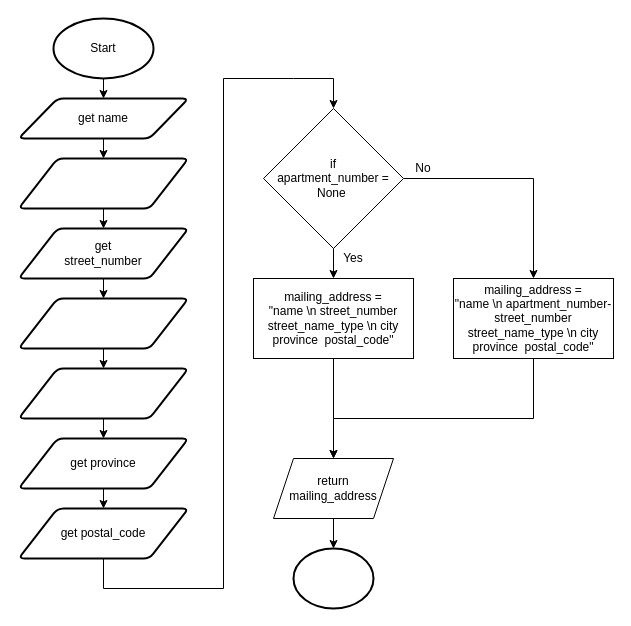
Some shapes in this 631 by 626 pixel diagram are drawn without their labels. Here are the shapes that lost their labels. From the top down, the centre of each, then its label:
At (x=103, y=183): "get apartment_number".
At (x=103, y=323): "get street_name_type".
At (x=103, y=393): "get city".
At (x=333, y=578): "Stop".
